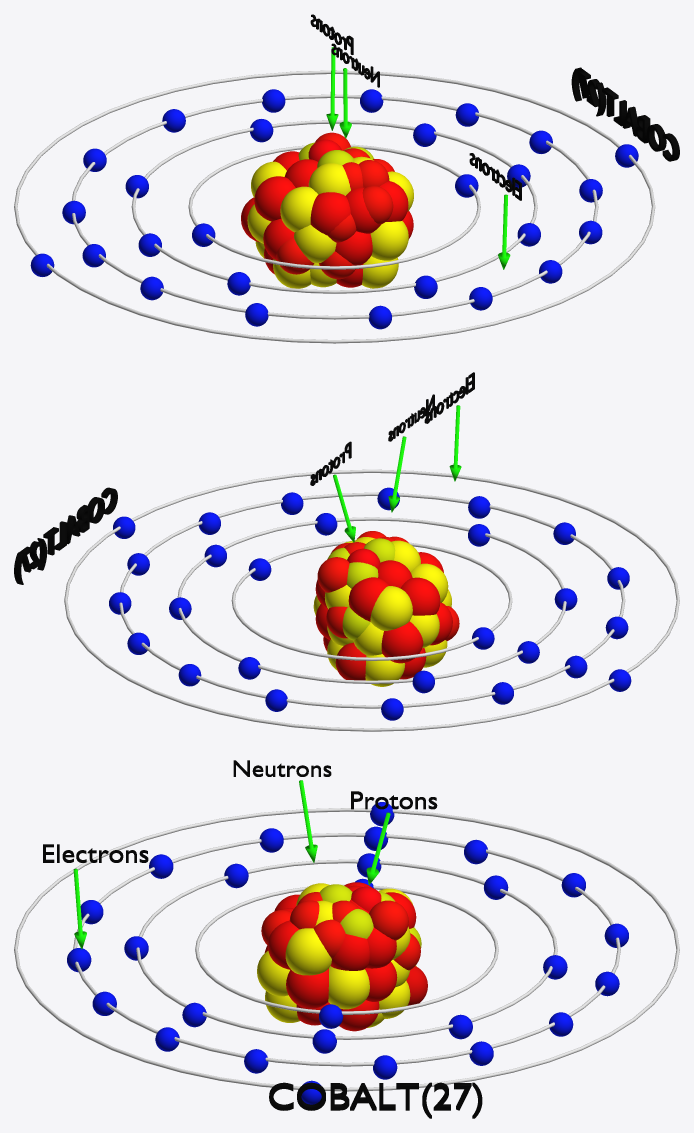
The model's file is Cobalt Atomic Model.gltf.
3 renders of one model, top to bottom at view 1: azimuth 30°, elevation 25°; view 2: azimuth 150°, elevation 25°; view 3: azimuth 270°, elevation 25°, orthographic. The views are drawn at different scales.
Visible parts, largest first — view 1: Sphere.006, Torus.003, Torus.002, Torus.001, Text.003, Torus, Text, Text.001, Text.002; view 2: Sphere.006, Torus.003, Torus.002, Torus.001, Text.003, Torus, Text; view 3: Sphere.006, Torus.003, Torus.002, Torus.001, Text.003, Torus, Text, Text.001, Text.002.
Part boxes in pixels (x1,y1,x2,y2): Sphere.006: (241, 132, 413, 288); Torus.003: (14, 70, 655, 343); Torus.002: (72, 94, 598, 319); Torus.001: (131, 120, 537, 293); Text.003: (571, 67, 679, 161); Torus: (188, 144, 480, 269); Text: (469, 153, 521, 200); Text.001: (331, 43, 379, 87); Text.002: (310, 14, 353, 54); Sphere.006: (313, 531, 459, 686); Torus.003: (64, 469, 679, 731); Torus.002: (119, 492, 625, 708); Torus.001: (177, 517, 566, 683); Text.003: (14, 487, 117, 584); Torus: (231, 541, 512, 660); Text: (424, 372, 474, 423); Sphere.006: (257, 882, 427, 1031); Torus.003: (14, 808, 679, 1091); Torus.002: (73, 833, 620, 1066); Torus.001: (136, 859, 557, 1039); Text.003: (269, 1082, 482, 1118); Torus: (195, 884, 498, 1014); Text: (43, 844, 148, 862); Text.001: (233, 760, 331, 776); Text.002: (351, 791, 437, 809).
Bounding box in the file's own units: 6.38 × 2.54 × 5.98.
